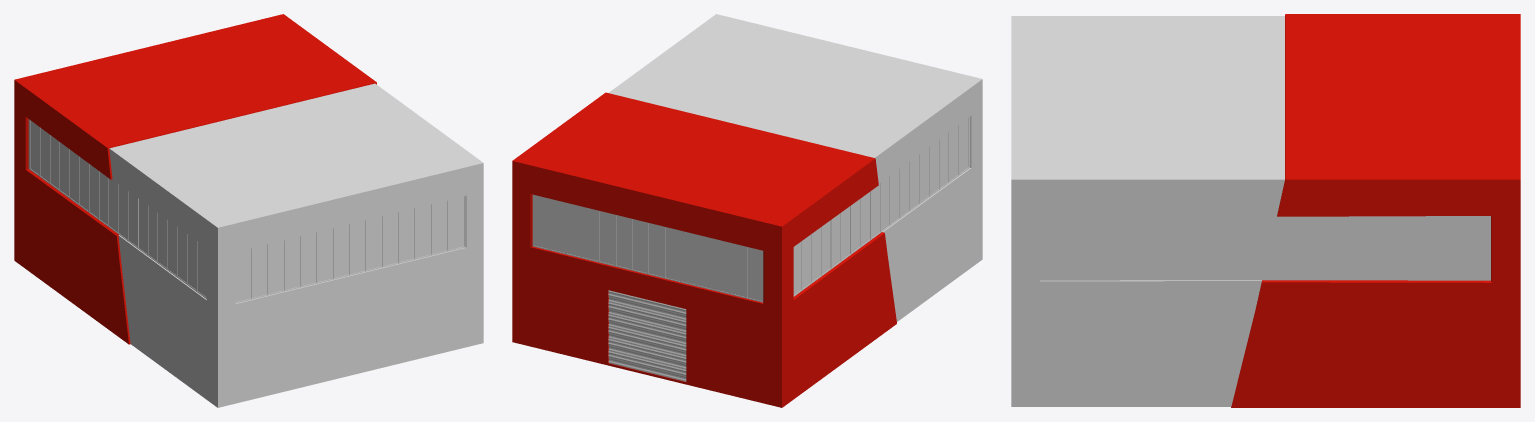
The model's file is SimpleIndustrialBuilding2 (1).fbx.
The picture shows the model from 3 angles, left to right: view 1: azimuth 30°, elevation 25°; view 2: azimuth 150°, elevation 25°; view 3: azimuth 270°, elevation 25°; orthographic projection. The views are drawn at different scales.
Visible parts, largest first — view 1: Building4Base, Building4Windows; view 2: Building4Base, Building4Windows, Building4Door; view 3: Building4Base, Building4Windows.
Part boxes in pixels (x1=…): Building4Base: x1=14, y1=14, x2=483, y2=407; Building4Windows: x1=28, y1=119, x2=465, y2=303; Building4Base: x1=512, y1=14, x2=982, y2=407; Building4Windows: x1=532, y1=117, x2=970, y2=302; Building4Door: x1=608, y1=290, x2=686, y2=381; Building4Base: x1=1011, y1=14, x2=1520, y2=407; Building4Windows: x1=1040, y1=215, x2=1490, y2=280.
Bounding box in the file's own units: 4666 × 2995 × 6058.
